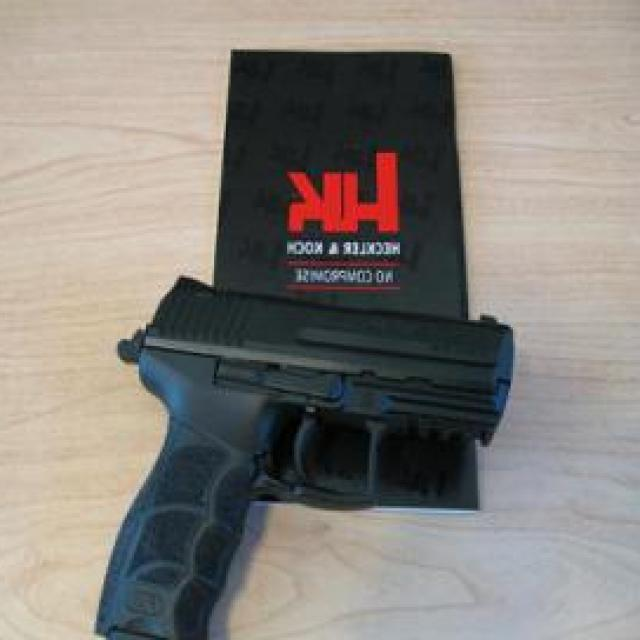pistol: (80, 277, 520, 640)
